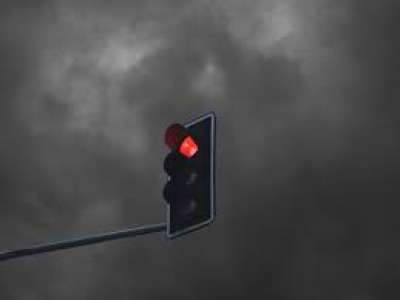trafficlight_red: (163, 122, 205, 217)
